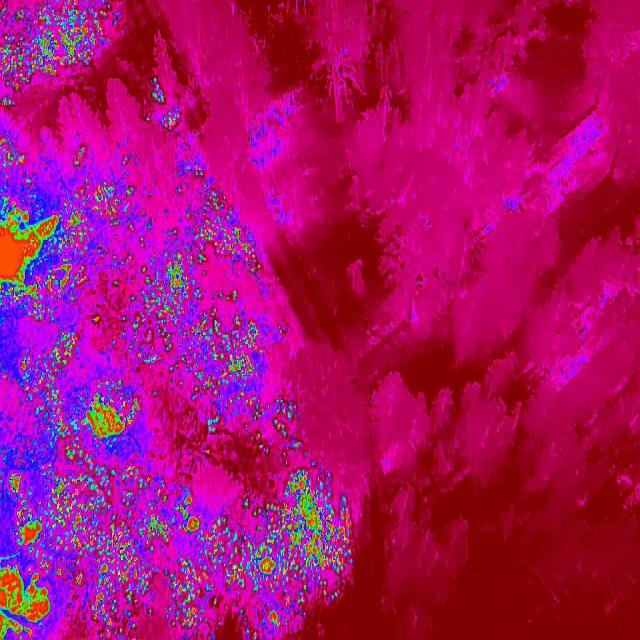fire: (0, 178, 140, 328), (172, 302, 296, 452), (0, 458, 150, 561), (254, 466, 358, 608), (54, 560, 214, 640), (191, 178, 271, 274), (2, 0, 108, 66), (140, 248, 208, 338), (11, 330, 92, 404), (72, 377, 152, 449), (198, 518, 254, 590), (0, 560, 51, 636), (150, 489, 200, 545), (46, 403, 81, 461), (145, 78, 181, 132), (0, 63, 58, 92), (0, 134, 28, 184), (130, 326, 160, 372), (66, 144, 92, 172), (262, 600, 282, 632), (214, 287, 244, 303), (0, 96, 18, 113)
